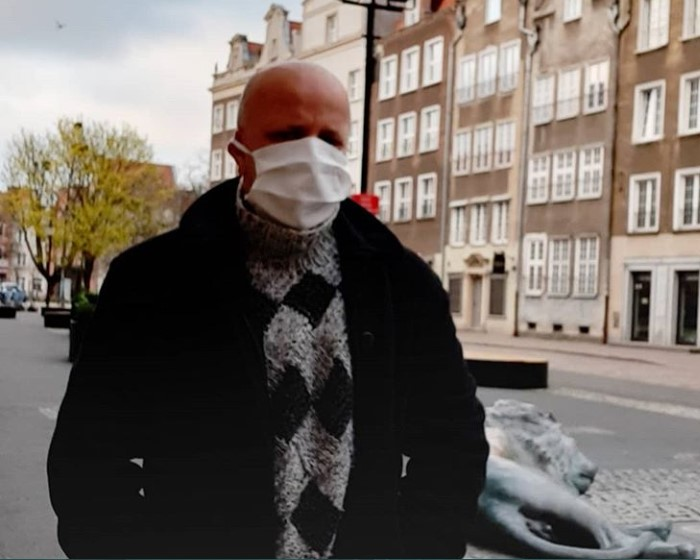face_with_mask: (228, 66, 354, 229)
